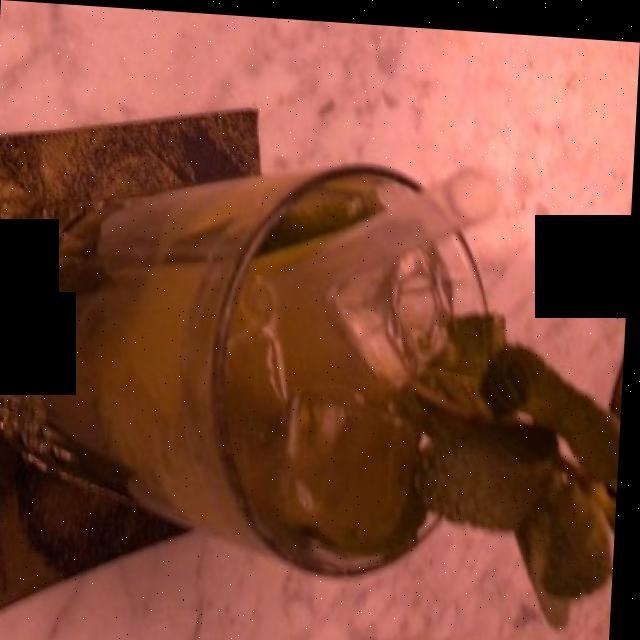cocktail: (32, 185, 465, 552)
